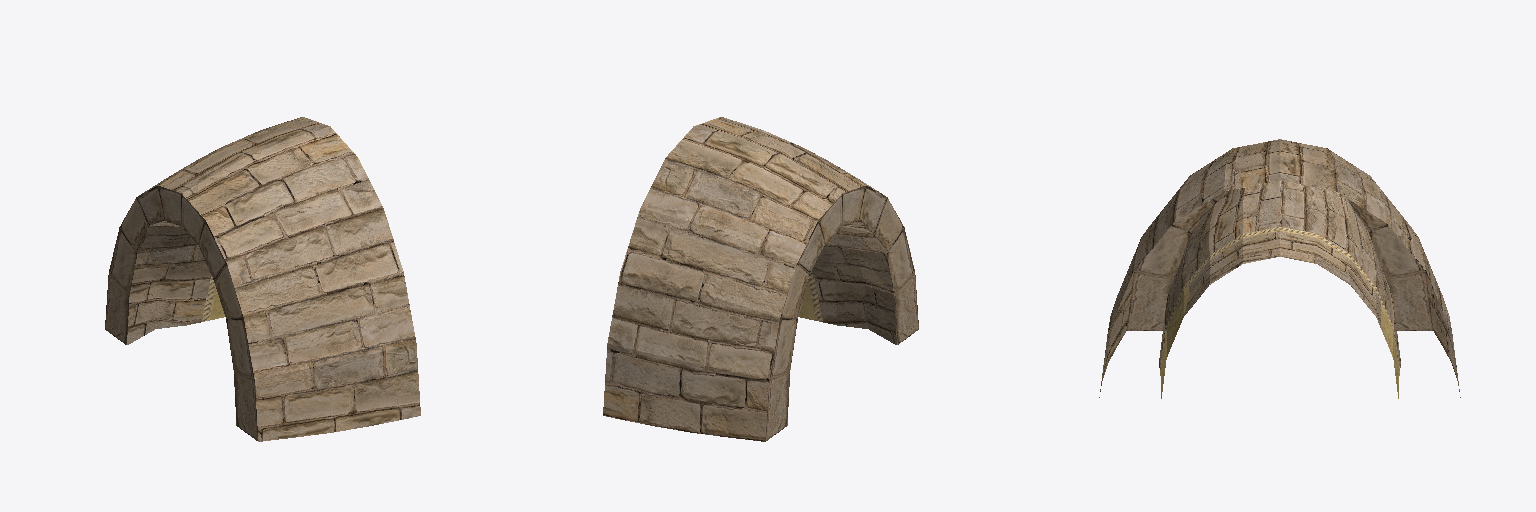
The picture shows the model from 3 angles: view 1: azimuth 30°, elevation 25°; view 2: azimuth 150°, elevation 25°; view 3: azimuth 270°, elevation 25°; orthographic projection.
Parts seen in each view (by area): view 1: pasted__pTorus1 group7; view 2: pasted__pTorus1 group7; view 3: pasted__pTorus1 group7.
Part boxes in pixels (bbox=[...]): pasted__pTorus1 group7: bbox=[105, 117, 420, 441]; pasted__pTorus1 group7: bbox=[603, 117, 918, 441]; pasted__pTorus1 group7: bbox=[1099, 139, 1460, 398].
Size of the model in its own units: 12.48 by 17.91 by 26.38.
1 materials, 1 textured.